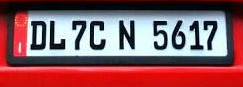1: (189, 21, 204, 50)
5: (152, 20, 168, 50)
6: (171, 20, 187, 50)
7: (202, 20, 219, 51), (71, 20, 87, 51)
C: (89, 20, 107, 51)
D: (29, 20, 48, 51)
L: (49, 20, 66, 50)
N: (118, 20, 136, 51)
